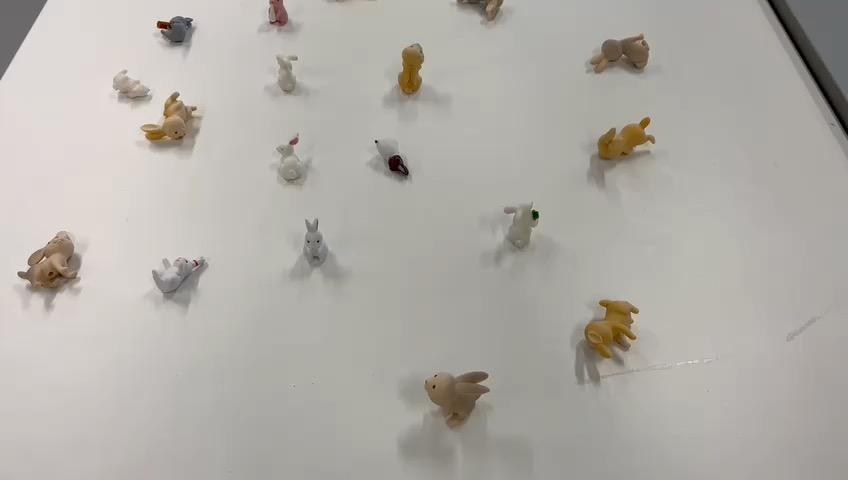pet: (420, 362, 491, 432), (577, 292, 642, 361), (14, 227, 80, 293), (582, 26, 655, 80), (140, 88, 203, 144), (593, 112, 659, 165), (147, 251, 209, 298), (501, 197, 544, 252), (393, 37, 430, 100), (274, 128, 312, 186), (369, 134, 413, 181), (302, 215, 331, 271), (110, 65, 151, 103), (153, 12, 199, 44), (273, 49, 303, 94), (265, 0, 292, 29)
